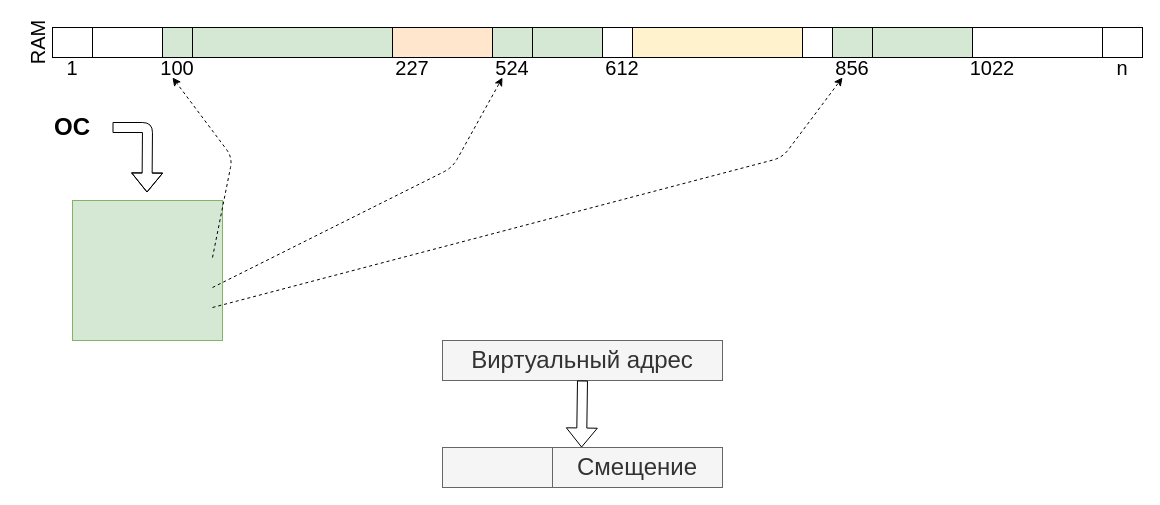
This 1160x505 diagram has some shape labels left out. The box of each missing label's shape, as (x1, y1, x2, y2) in pixels:
С Б Г 1 100 227 2 524 612 3 856 1022: (72, 200, 222, 340)
Сегмент: (442, 446, 552, 488)
